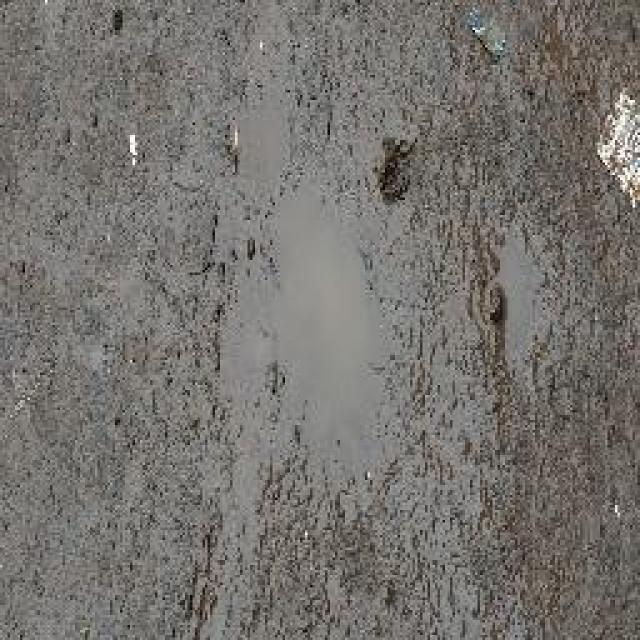stagnation: (234, 138, 436, 480)
